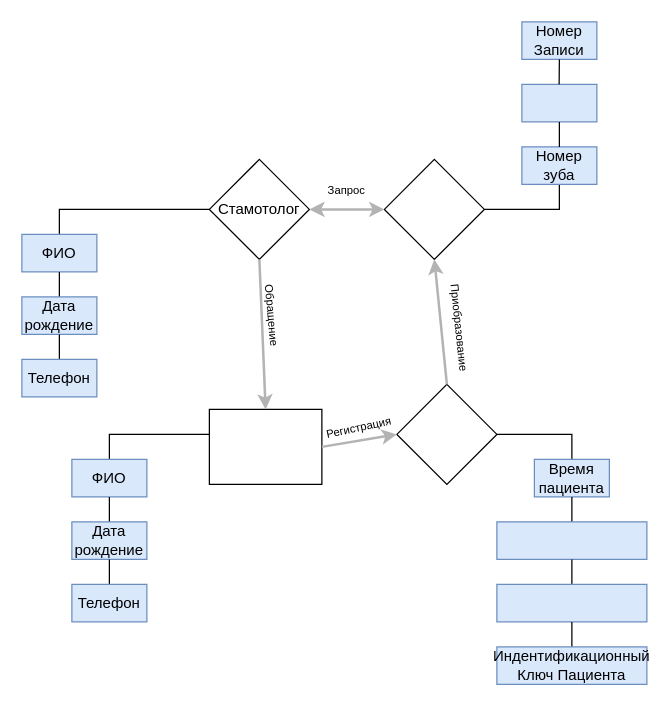
This 671x706 diagram has some shape labels left out. The shapes that lost their labels are listed below. From the top down, each one's centre as x and y in pixels, then its label:
point 559,102: Диагноз
point 433,208: Приём
point 265,446: Пациент
point 446,433: Запись
point 571,540: Продолжительность приема,
point 571,602: Индентификационный Ключ Стоматолога
